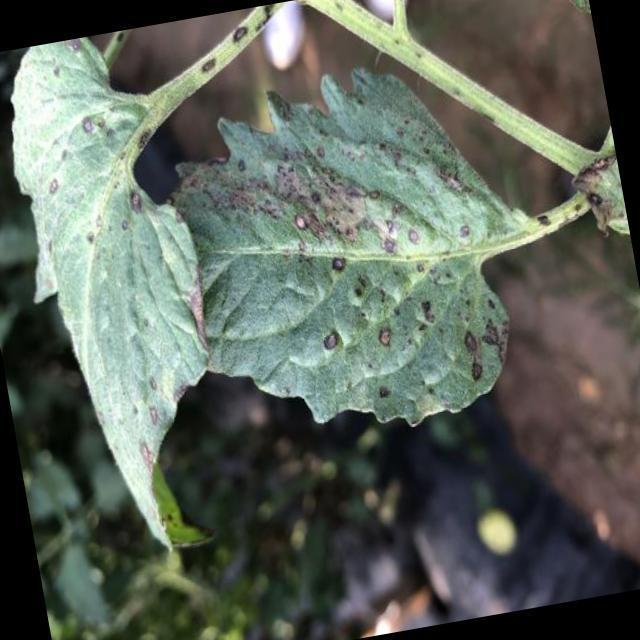Septoria: (270, 121, 508, 417), (28, 64, 190, 481)
